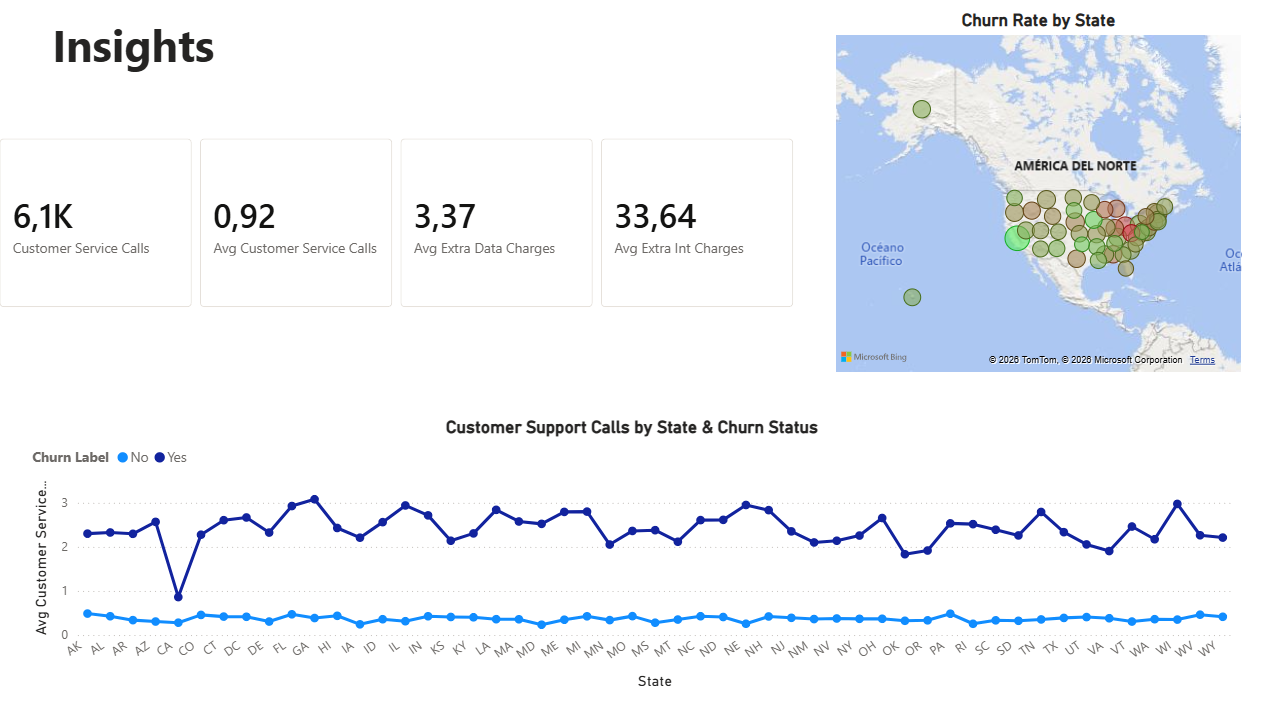

The dashboard page shown, as its layout file describes it:
{"tool":"powerbi","page":{"name":"Insights","canvas":[1280,720],"ordinal":4},"visuals":[{"type":"cardVisual","fields":{"Data":["Sum(Databel - Data.Customer Service Calls)","Databel - Data.Avg Customer Service Calls","Databel - Data.Avg Extra Data Charges","Databel - Data.Avg Extra Int Charges"]},"box":[7.8,132.3,807.3,198.4],"z":0},{"type":"lineChart","title":"Customer Support Calls by State & Churn Status","fields":{"Category":["Databel - Data.State"],"Y":["Databel - Data.Avg Customer Service Calls"],"Series":["Databel - Data.Churn Label"]},"box":[51.6,420.2,1176.9,270.4],"z":1000},{"type":"map","fields":{"Category":["Databel - Data.State"],"Size":["Databel - Data.Churn Rate"]},"box":[833.6,24.3,403.6,357],"z":2000},{"type":"textbox","box":[71,24.3,292.8,84.6],"z":3000}]}

Visuals, with their boxes in screenshot pixels (x1, y1, x2, y2), scaled from the page's 1280x720 canvas onto the 1274x705 screenshot:
cardVisual - Sum(Databel - Data.Customer Service Calls) x Databel - Data.Avg Customer Service Calls: l=8, t=130, r=811, b=324
"Customer Support Calls by State & Churn Status" lineChart: l=51, t=411, r=1223, b=676
map - Databel - Data.State x Databel - Data.Churn Rate: l=830, t=24, r=1231, b=373
textbox: l=71, t=24, r=362, b=107
